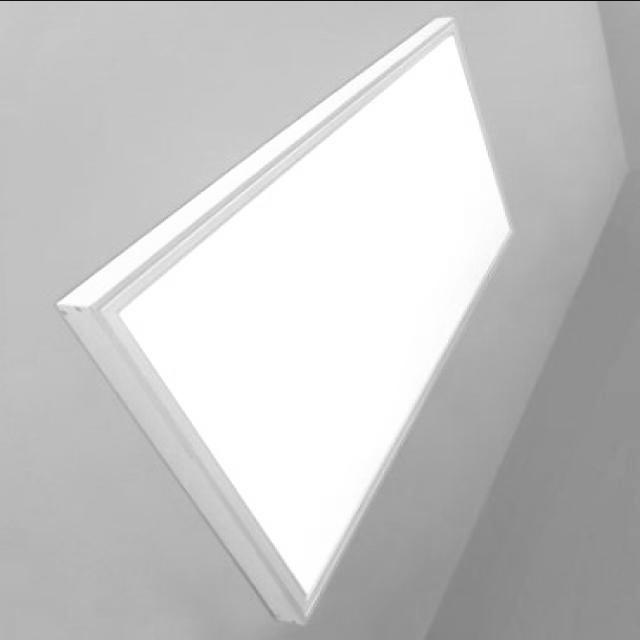light: (56, 16, 513, 625)
